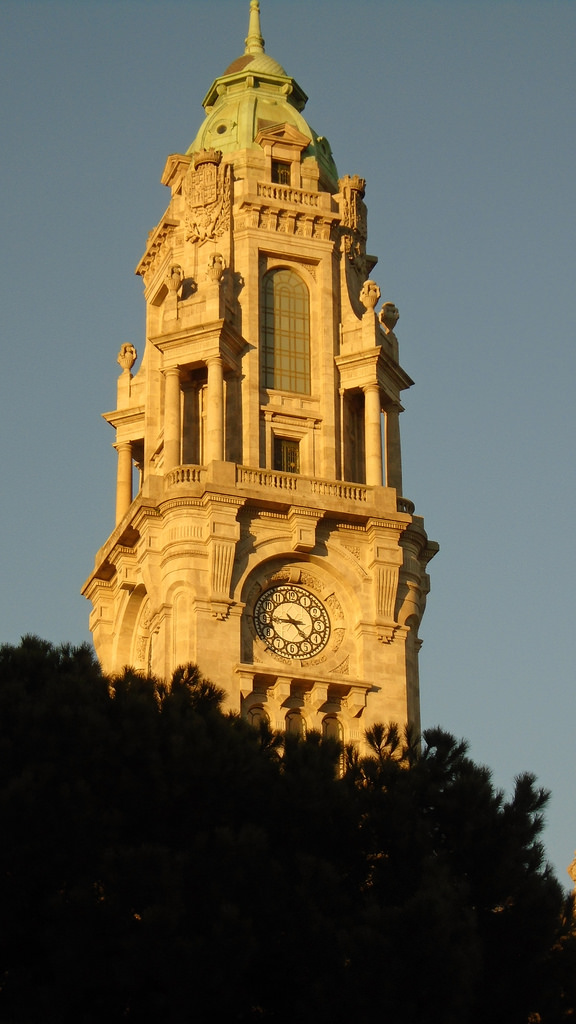camara: (77, 0, 444, 770)
